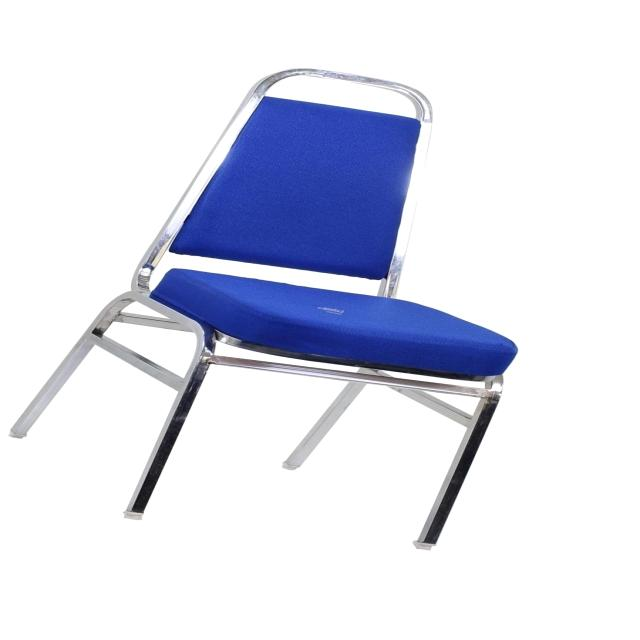Chair: (5, 66, 528, 556)
